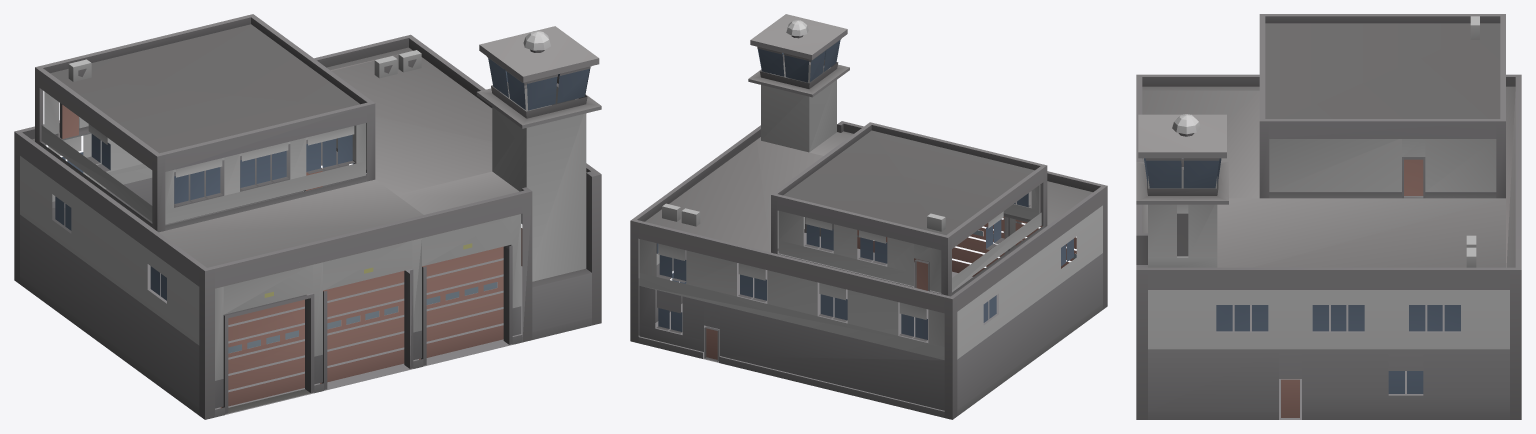
The model's file is fire.lod.glb.
The picture shows the model from 3 angles, left to right: view 1: azimuth 30°, elevation 25°; view 2: azimuth 150°, elevation 25°; view 3: azimuth 270°, elevation 25°; orthographic projection. The views are drawn at different scales.
Visible parts, largest first — view 1: fire; view 2: fire; view 3: fire.
Boxes of the visible parts, left/top/right/bottom form: fire: left=14, top=14, right=601, bottom=419; fire: left=630, top=14, right=1107, bottom=419; fire: left=1136, top=14, right=1521, bottom=419.
Bounding box in the file's own units: 24 × 16.35 × 20.
